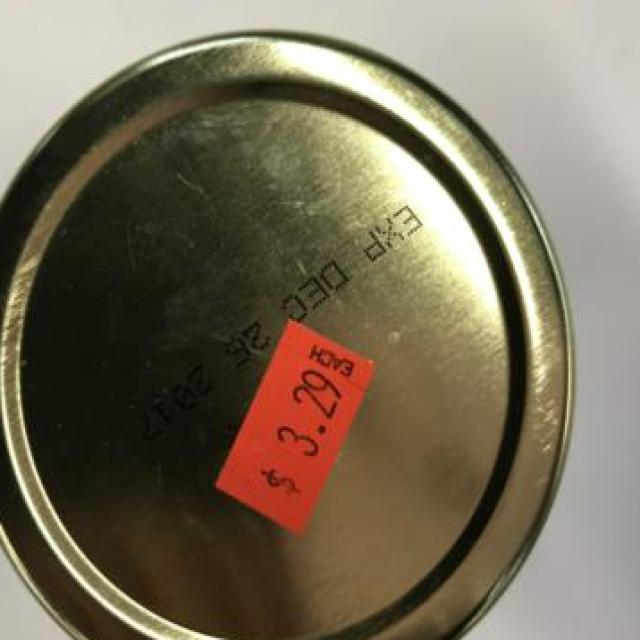organic: (0, 24, 577, 636)
